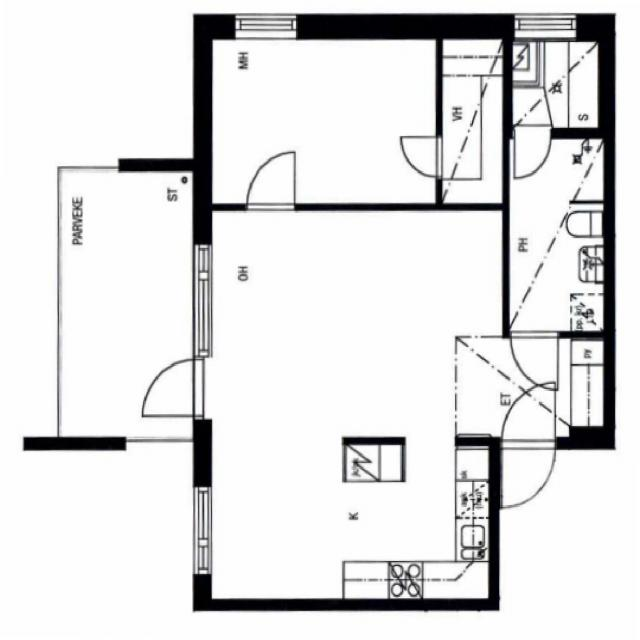door: (142, 360, 212, 416), (502, 379, 555, 449), (502, 438, 555, 508), (511, 331, 558, 389), (248, 151, 294, 210), (515, 128, 551, 178), (400, 136, 442, 176)
